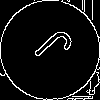J: (25, 25, 76, 75)
